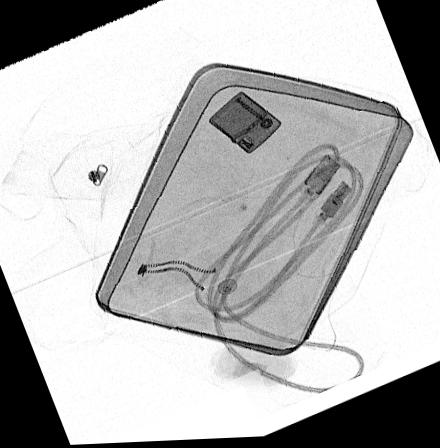Lighter: (208, 92, 283, 156)
